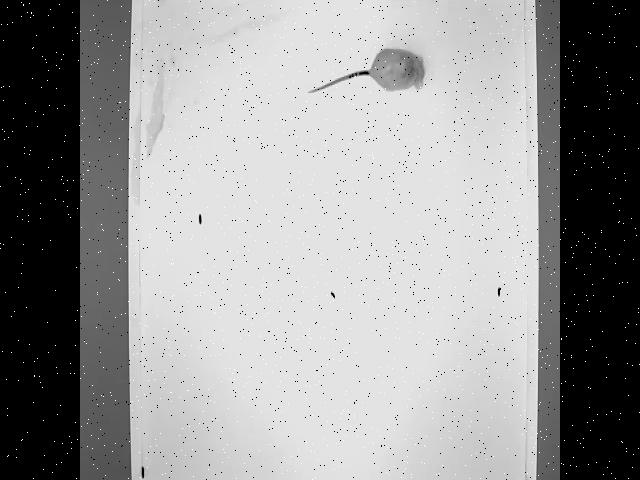Tikus: (307, 47, 424, 98)
